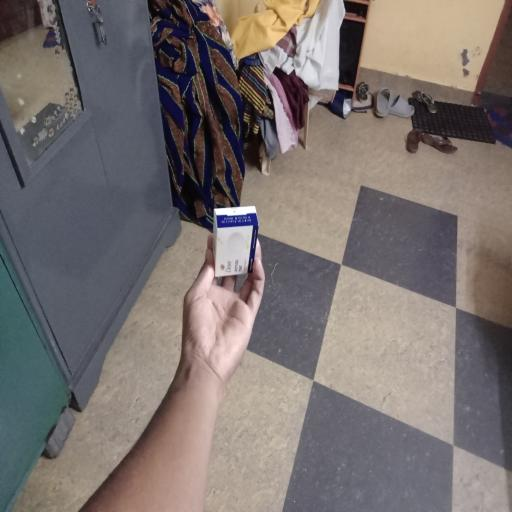Dove`1: (214, 204, 260, 276)
